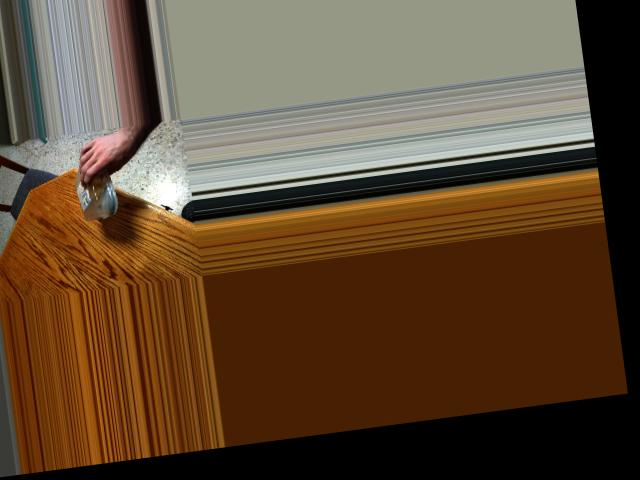cheese: (67, 149, 124, 214)
